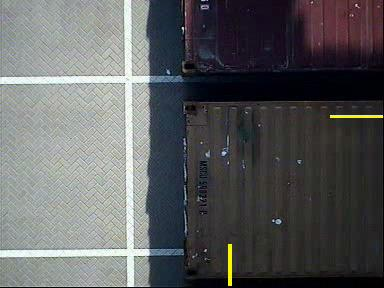groundmarker_2: (177, 188, 240, 227)
